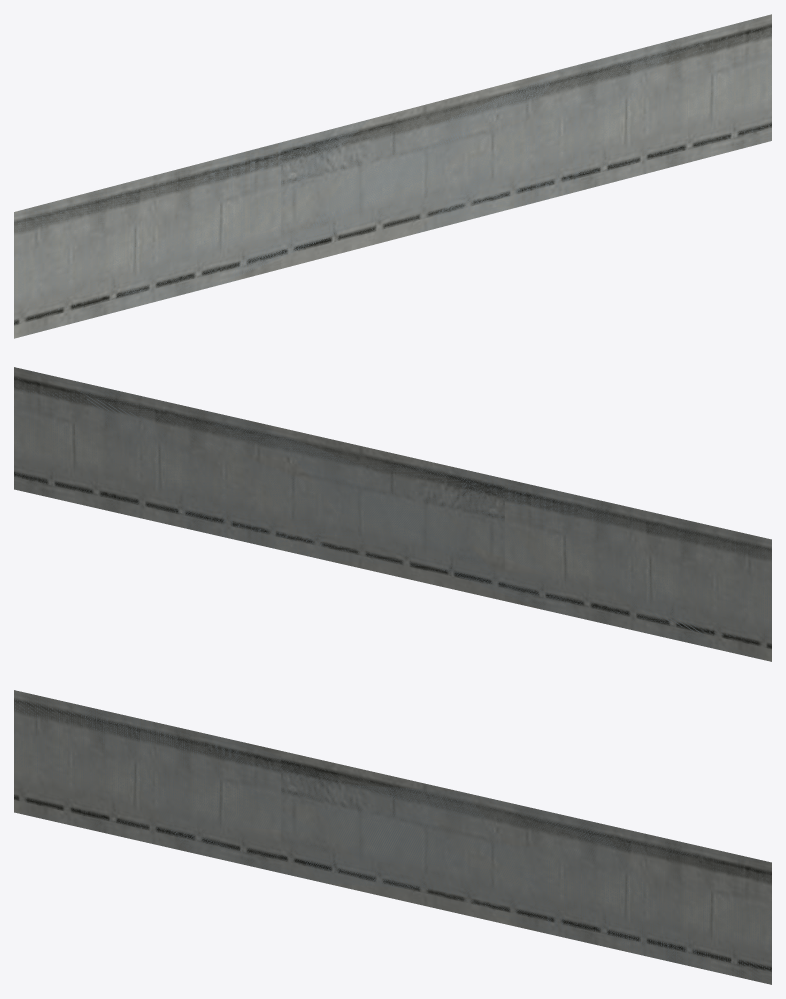
File: 人民英雄纪念碑24.dae
3 renders of one model, top to bottom at view 1: azimuth 30°, elevation 25°; view 2: azimuth 150°, elevation 25°; view 3: azimuth 330°, elevation 25°, orthographic. The views are drawn at different scales.
Parts seen in each view (by area): view 1: SketchUp; view 2: SketchUp; view 3: SketchUp.
Boxes of the visible parts, x1,y1,x2,y2 form: SketchUp: [14, 14, 771, 338]; SketchUp: [14, 367, 771, 661]; SketchUp: [14, 690, 771, 984].
Bounding box in the file's own units: 451 × 13.4 × 70.87.
